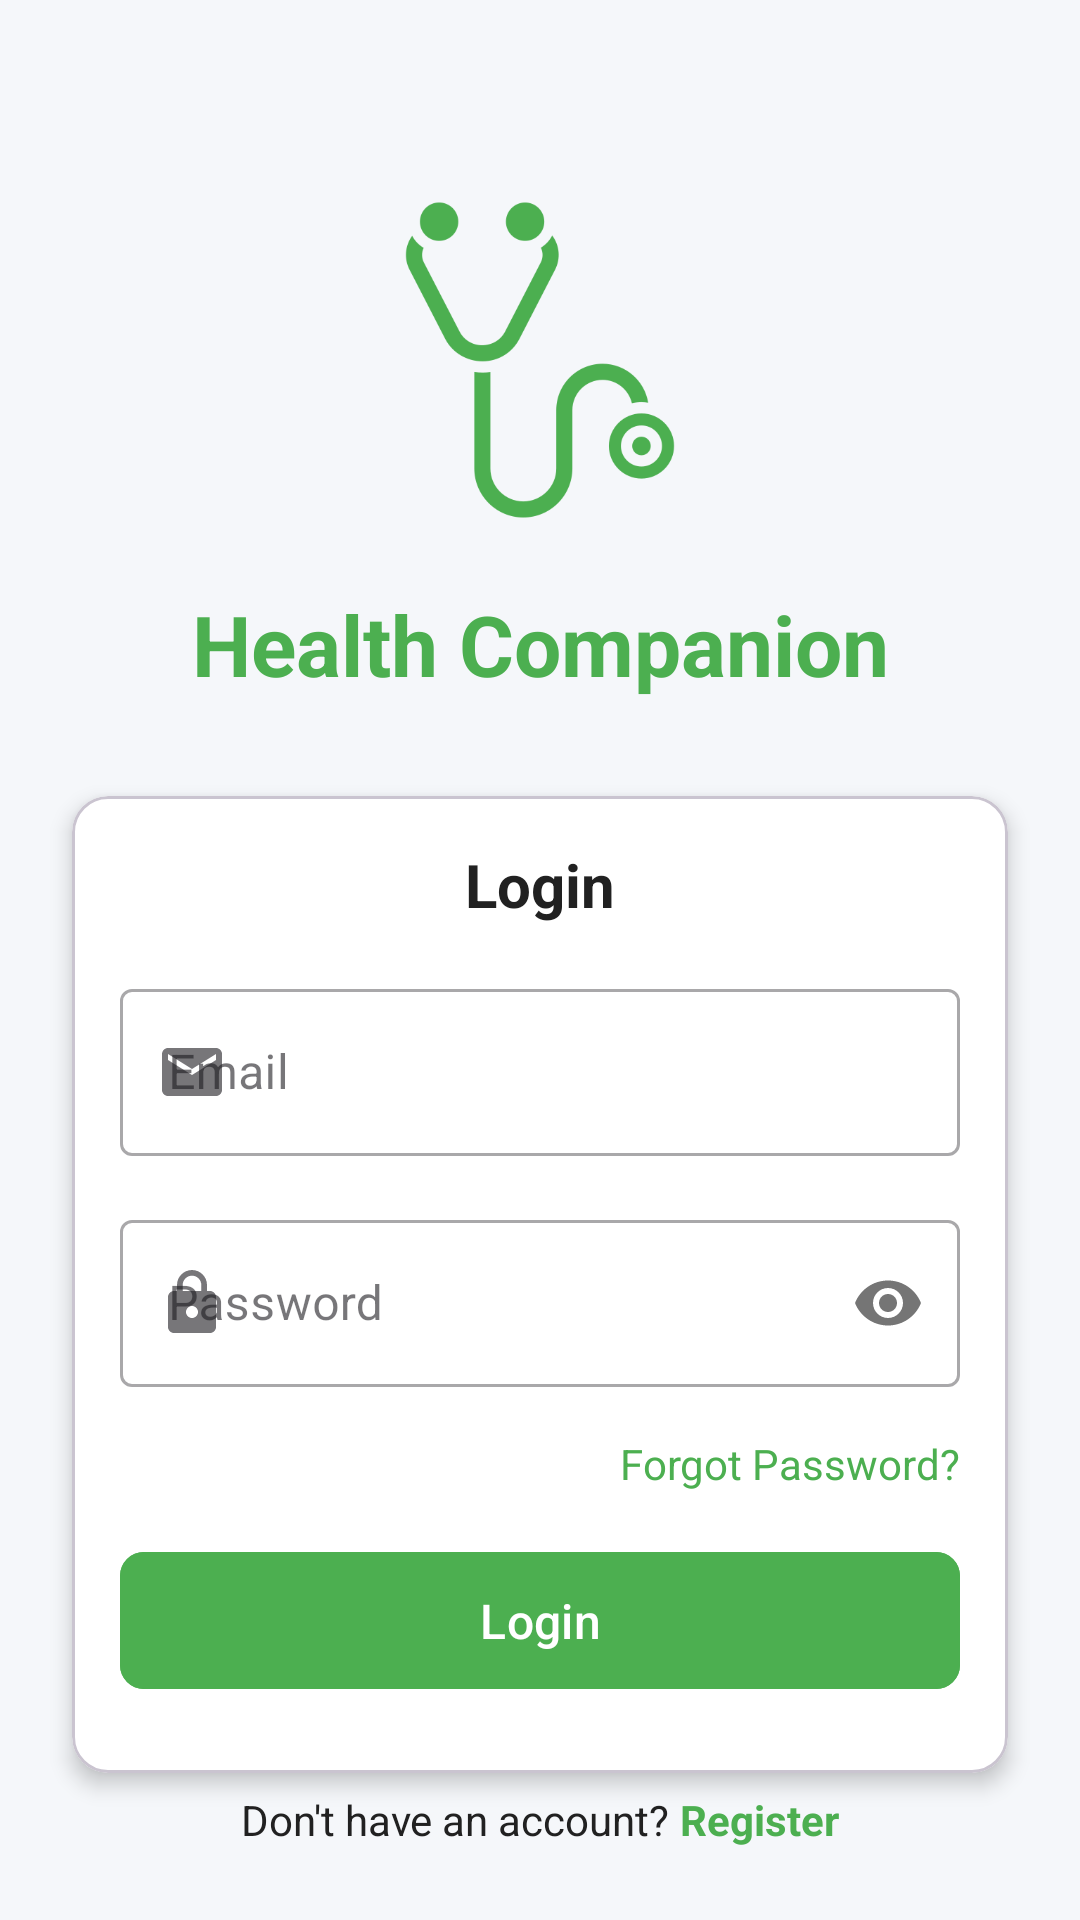

Named icons in this screenshot (1080w x 1920h) and their centers, [x,y]:
stethoscope: [540,360]
